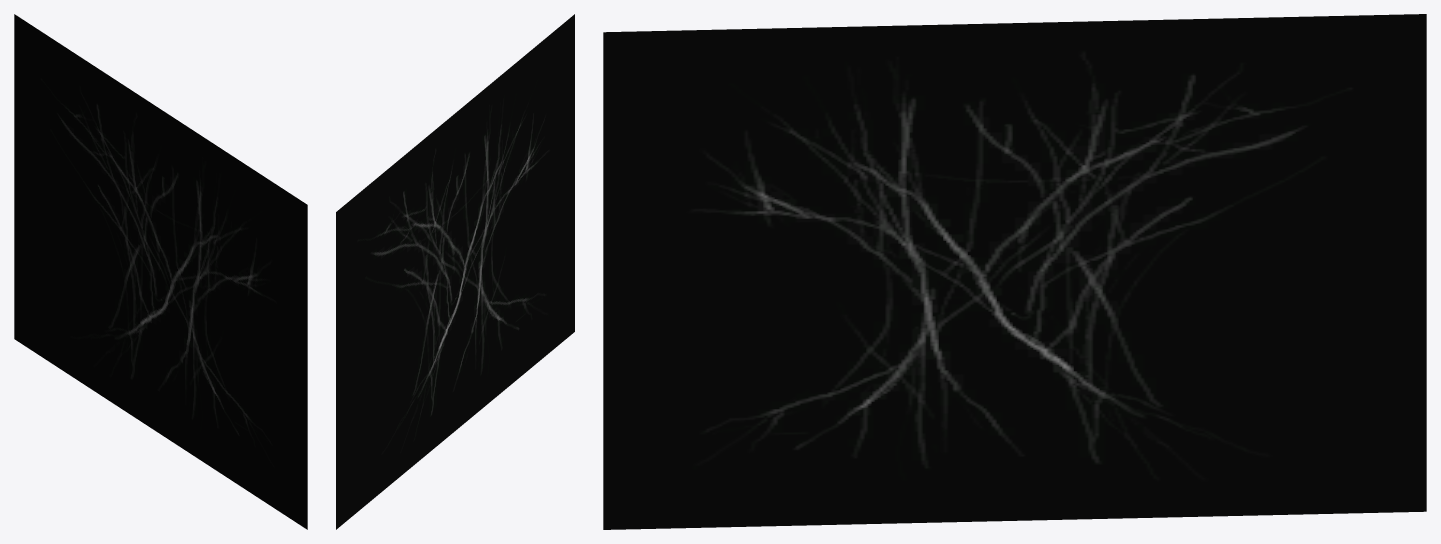
The model's file is INST_MIRK_FLOATINGWEB.fbx.
3 views of the same model, side by side, from view 1: azimuth 30°, elevation 25°; view 2: azimuth 150°, elevation 25°; view 3: azimuth 270°, elevation 25° (orthographic). The views are drawn at different scales.
Parts seen in each view (by area): view 1: INST_MIRK_FLOATINGWEB; view 2: INST_MIRK_FLOATINGWEB; view 3: INST_MIRK_FLOATINGWEB.
Part boxes in pixels (<box>): INST_MIRK_FLOATINGWEB: <box>14,14,307,529</box>; INST_MIRK_FLOATINGWEB: <box>336,14,574,529</box>; INST_MIRK_FLOATINGWEB: <box>603,14,1426,529</box>.
Bounding box in the file's own units: 10233 × 130267 × 195259.
1 material, 1 textured.
